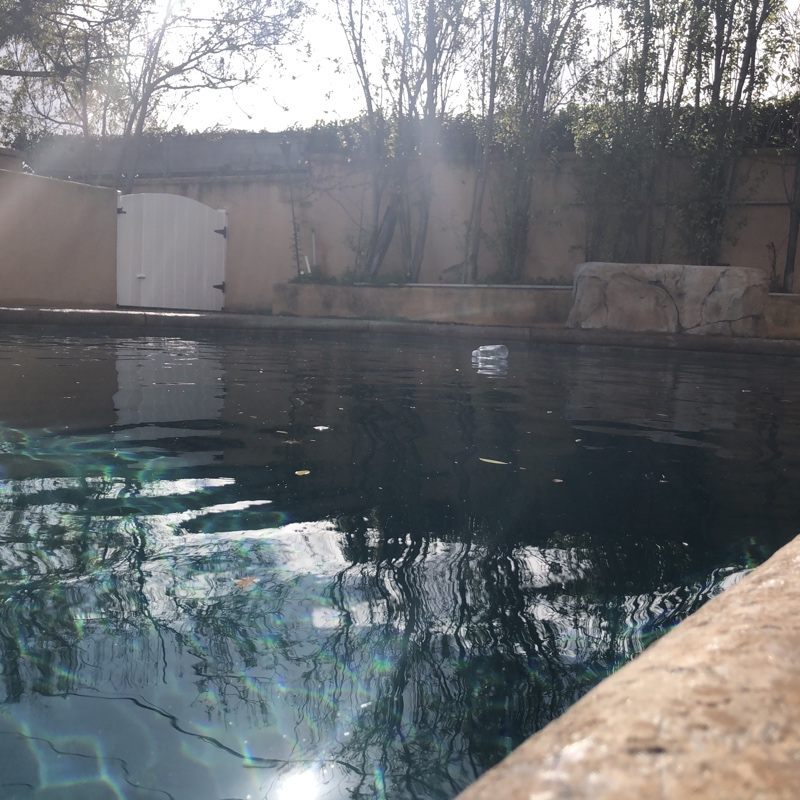Plastic Bottle: (471, 344, 507, 362)
